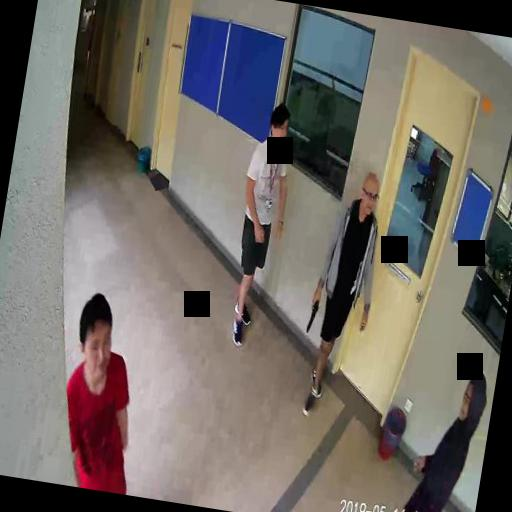Handgun: (304, 294, 319, 331)
